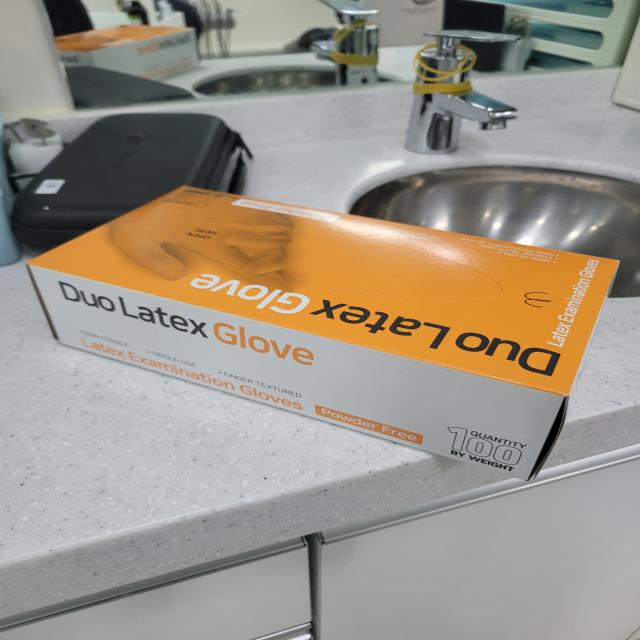glove: (12, 171, 640, 511)
